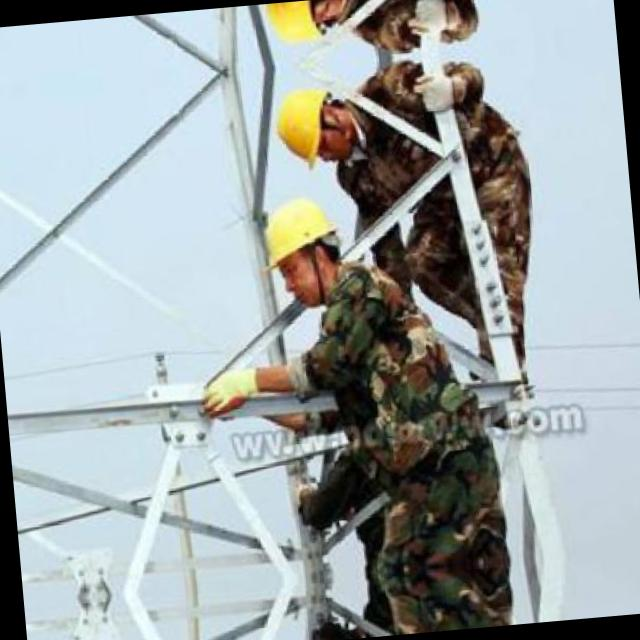helmet: (255, 185, 347, 310), (268, 76, 360, 170), (260, 0, 351, 51)
